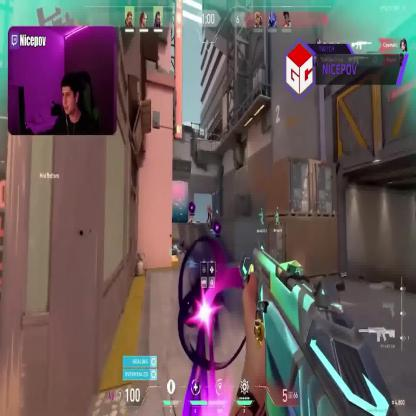enemy: (207, 202, 212, 223)
enemy_head: (208, 204, 212, 210)
